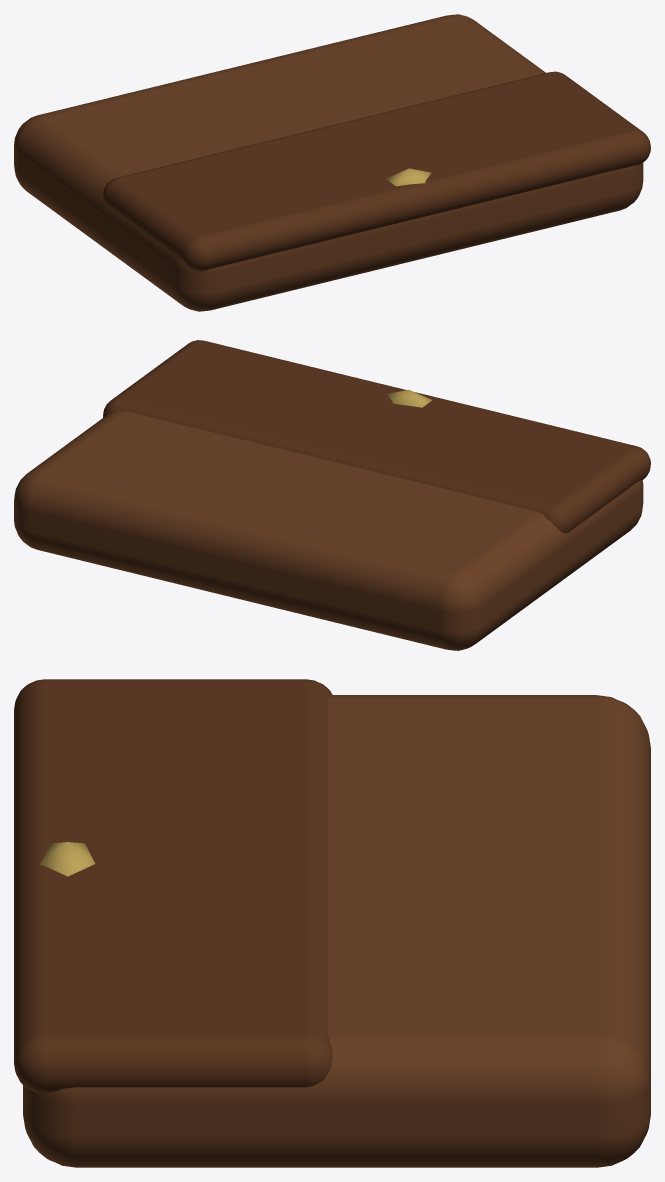
File: item_ic_lost_wallet.glb
The picture shows the model from 3 angles, top to bottom: view 1: azimuth 30°, elevation 25°; view 2: azimuth 150°, elevation 25°; view 3: azimuth 270°, elevation 25°; orthographic projection. The views are drawn at different scales.
Parts seen in each view (by area): view 1: item_ic_lost_wallet_main; view 2: item_ic_lost_wallet_main; view 3: item_ic_lost_wallet_main.
Part boxes in pixels (x1=…): item_ic_lost_wallet_main: x1=14, y1=14, x2=650, y2=311; item_ic_lost_wallet_main: x1=14, y1=340, x2=650, y2=650; item_ic_lost_wallet_main: x1=14, y1=679, x2=650, y2=1167.
Size of the model in its own units: 0.2 by 0.038 by 0.142.
